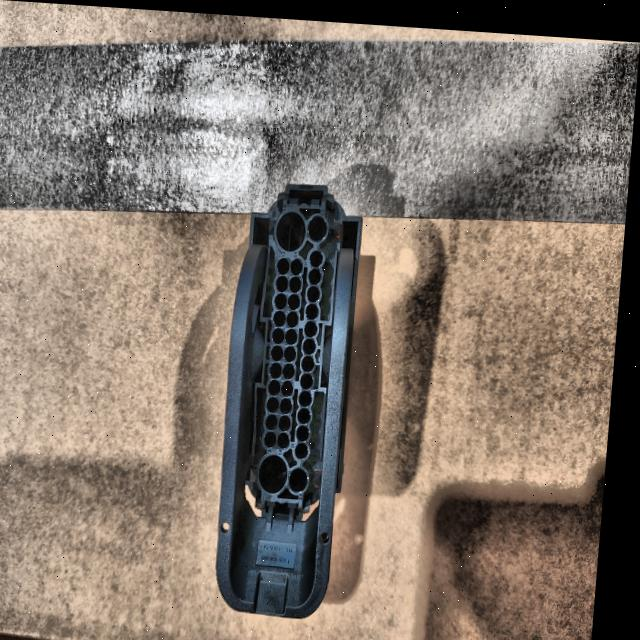P38: (226, 180, 365, 613)
